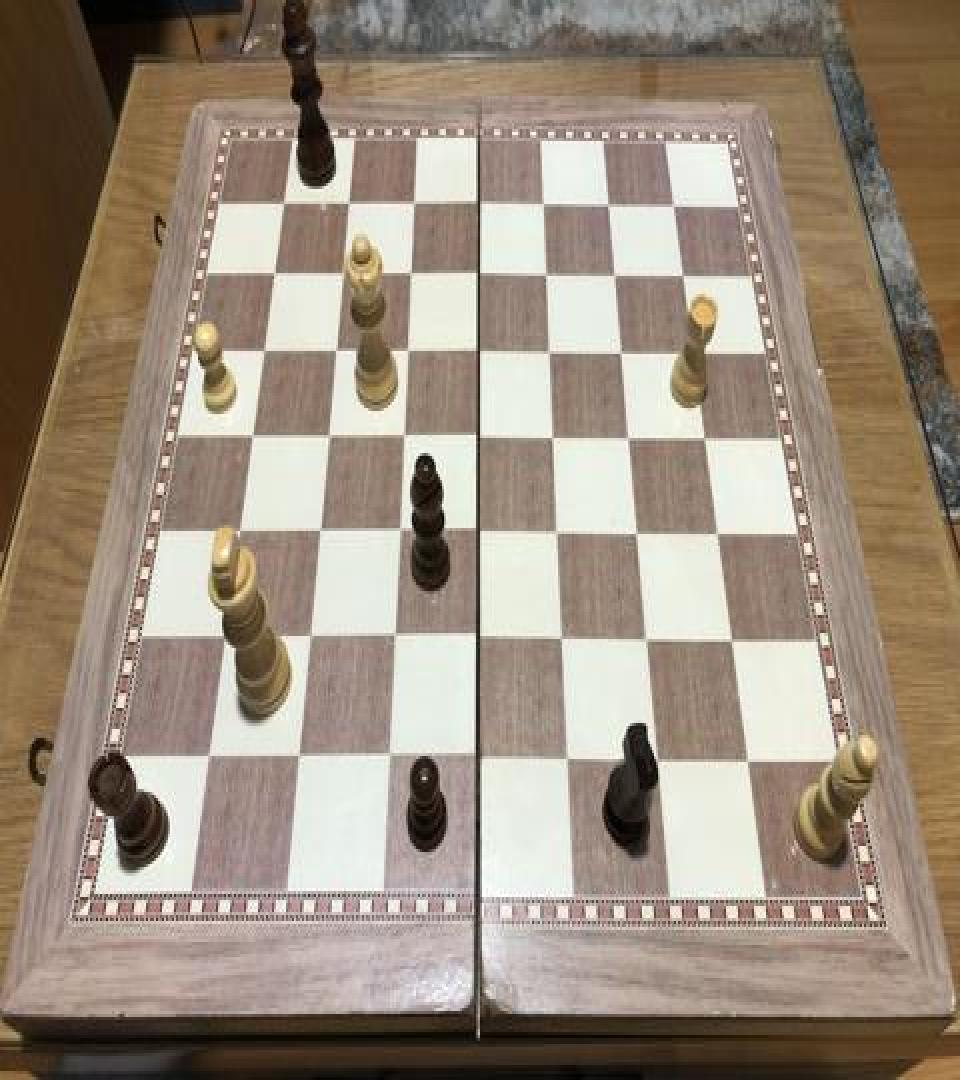xcorner: (626, 514, 650, 551), (546, 514, 570, 551), (465, 514, 489, 551), (721, 622, 745, 659), (636, 622, 660, 659), (555, 742, 579, 779), (284, 739, 308, 776), (194, 739, 218, 776), (662, 186, 686, 222), (597, 186, 621, 222), (531, 186, 555, 222), (466, 184, 490, 220), (400, 184, 424, 220), (335, 184, 359, 220), (270, 184, 294, 220), (672, 256, 696, 292), (603, 256, 627, 292), (534, 255, 558, 291), (466, 255, 490, 291), (397, 255, 421, 291), (329, 255, 353, 291), (260, 254, 284, 290), (682, 334, 706, 370), (610, 333, 634, 369), (538, 333, 562, 369), (466, 333, 490, 369), (394, 332, 418, 368), (322, 332, 346, 368), (250, 332, 274, 368), (694, 420, 718, 456), (618, 420, 642, 456), (541, 418, 565, 454), (465, 418, 489, 454), (389, 418, 413, 454), (314, 417, 338, 453), (238, 417, 262, 453), (707, 516, 731, 552), (385, 513, 409, 549), (305, 513, 329, 549), (225, 512, 249, 548), (550, 621, 574, 657), (465, 621, 489, 657), (380, 620, 404, 656), (295, 620, 319, 656), (210, 618, 234, 654), (737, 744, 761, 780), (646, 744, 670, 780), (465, 741, 489, 777), (374, 741, 398, 777)
